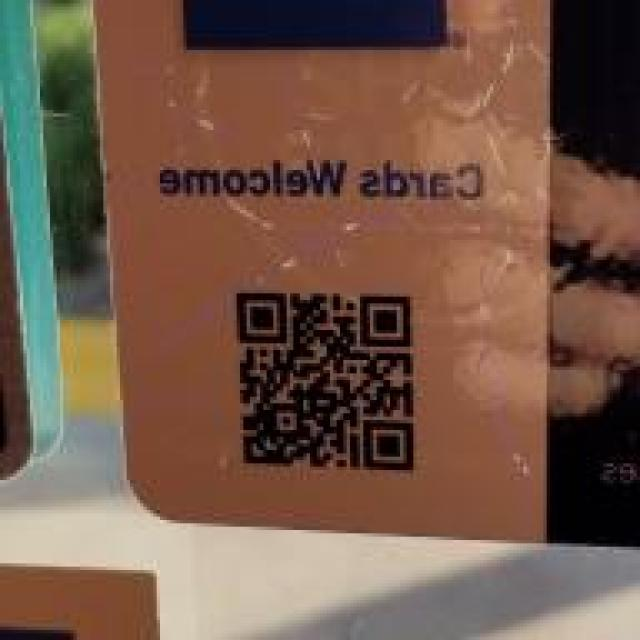qr_code: (237, 293, 414, 471)
